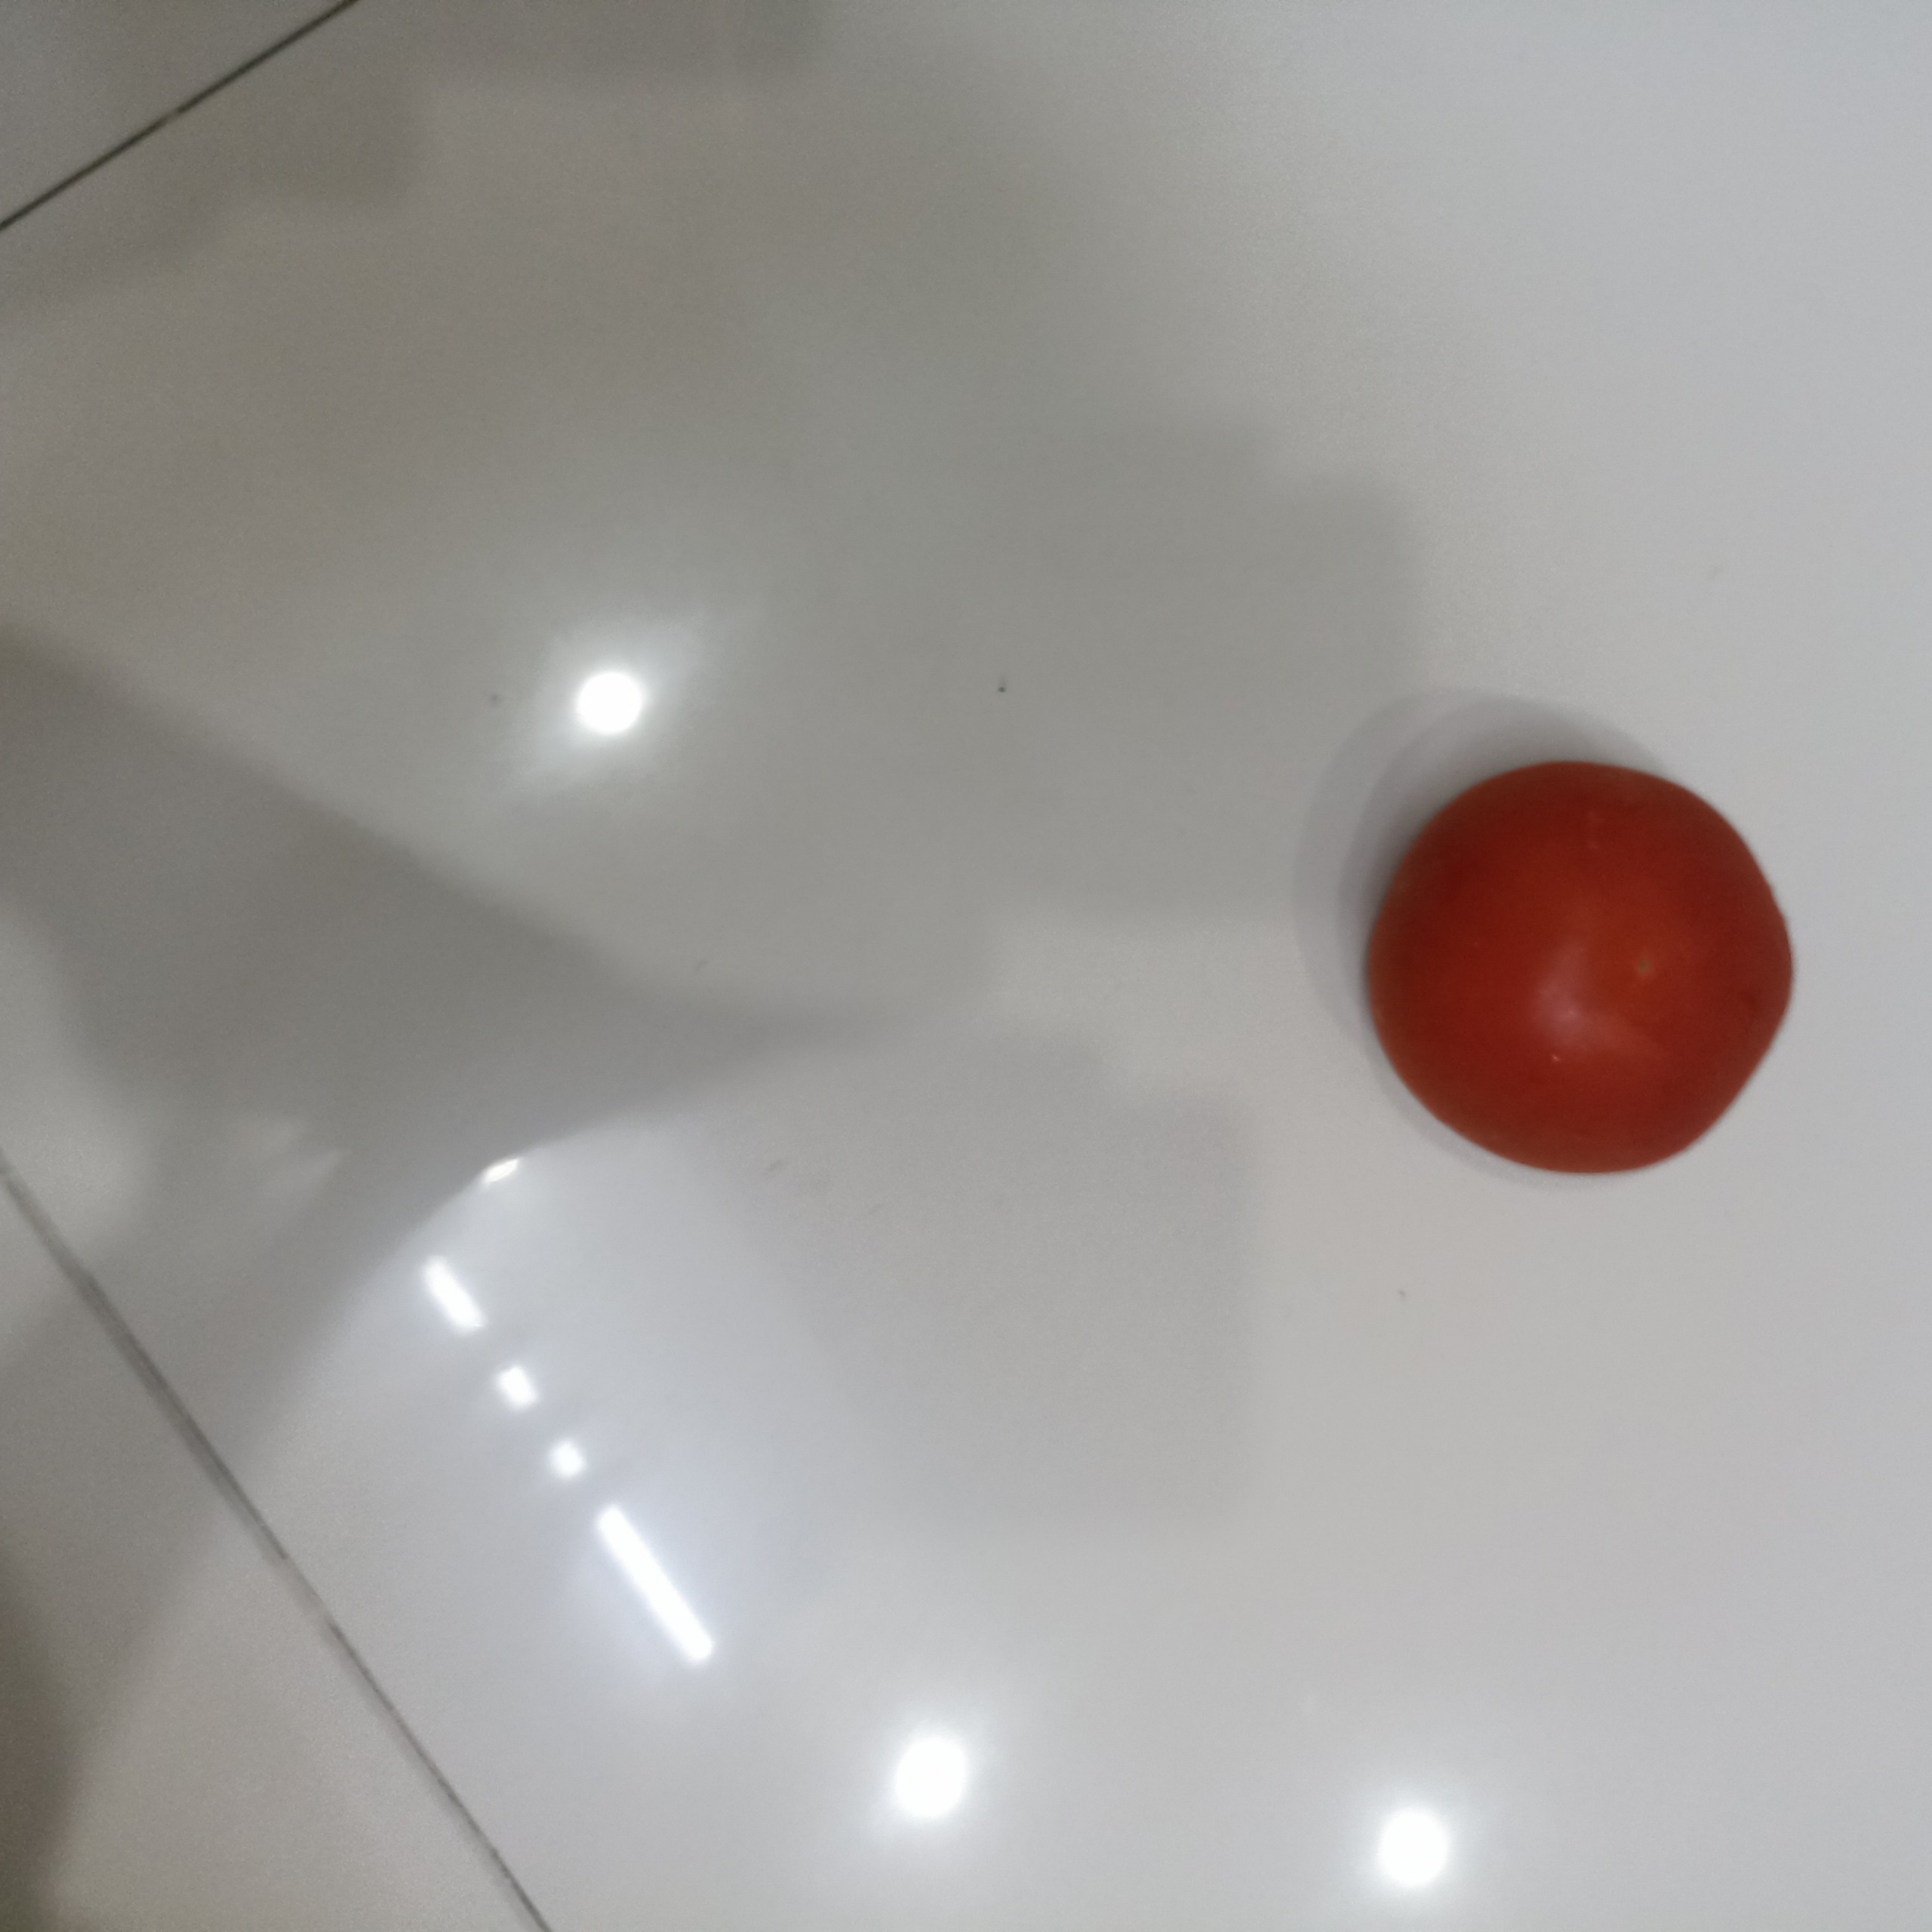Ca chua: (1361, 754, 1794, 1184)
